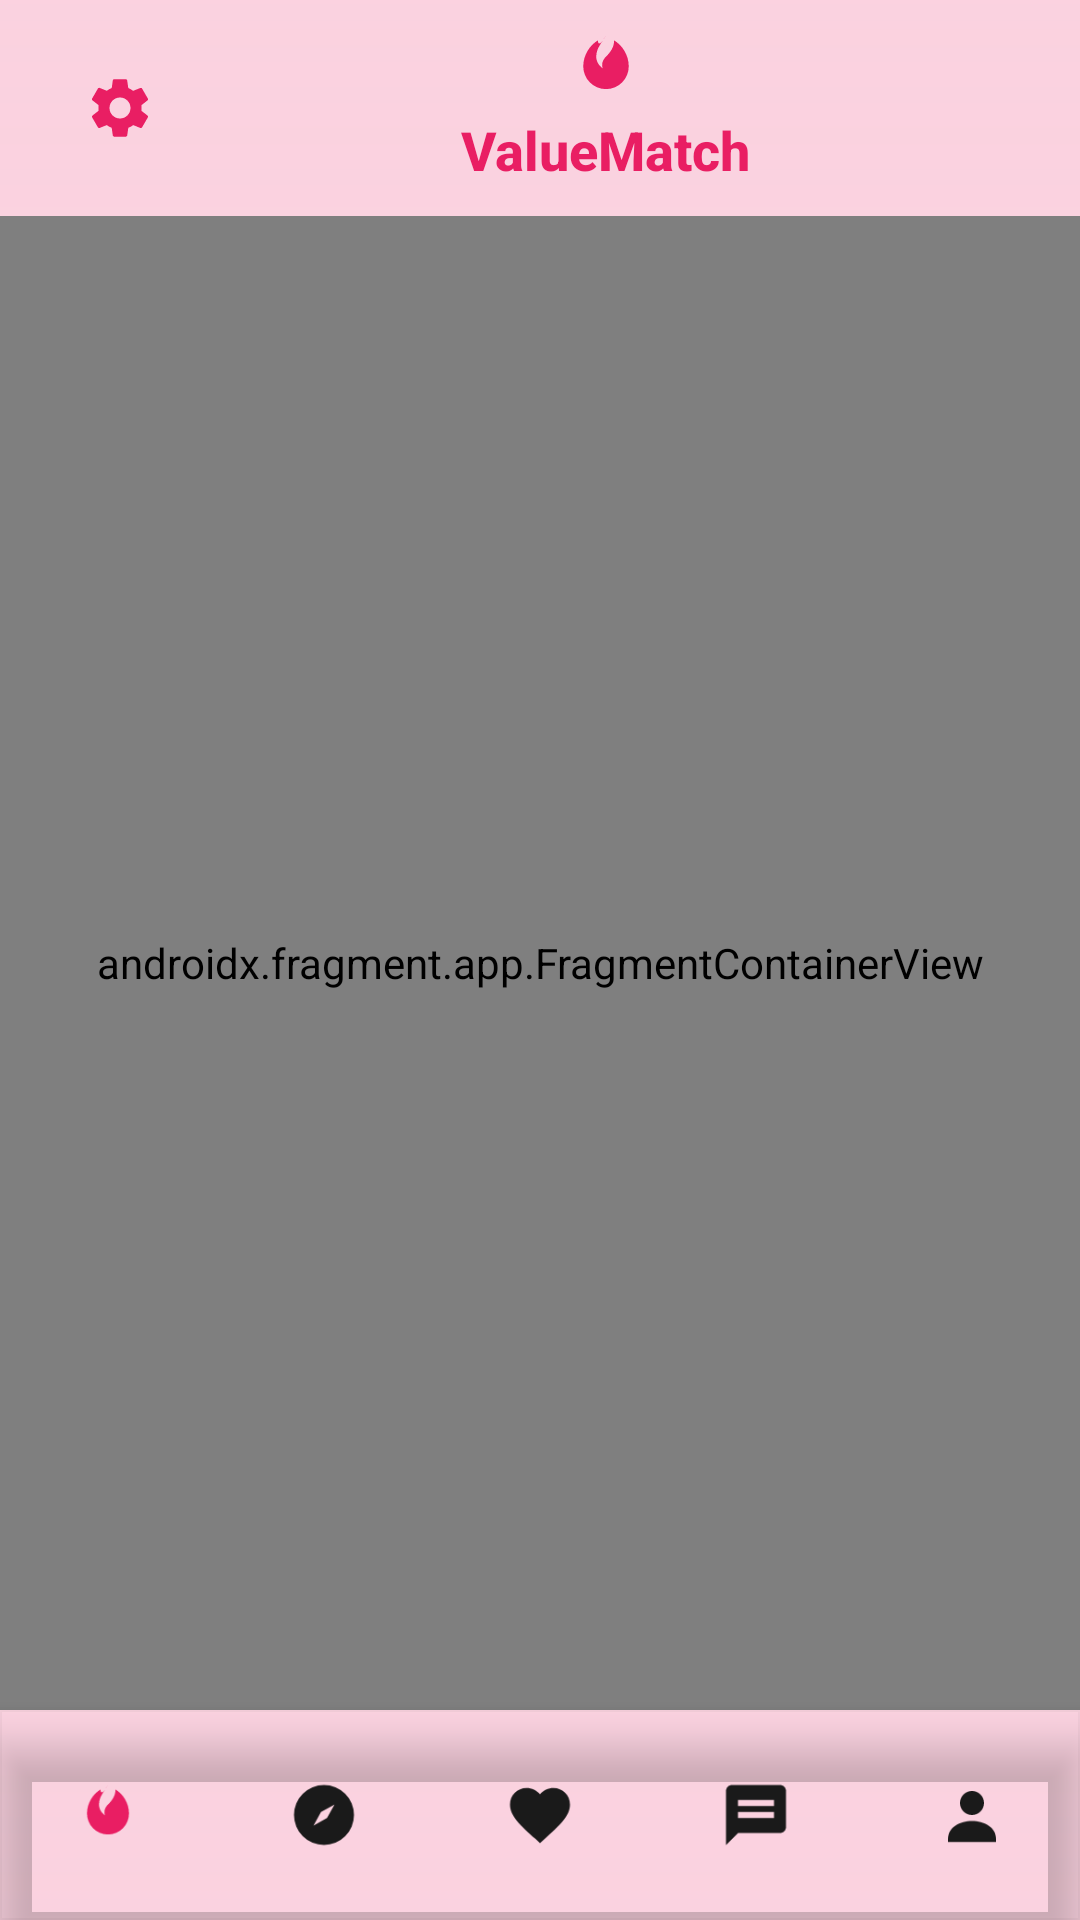

Screen size 1080px x 1920px. Icon name, then its center in pixels as (x,y):
flame: (606,64)
settings: (120,108)
